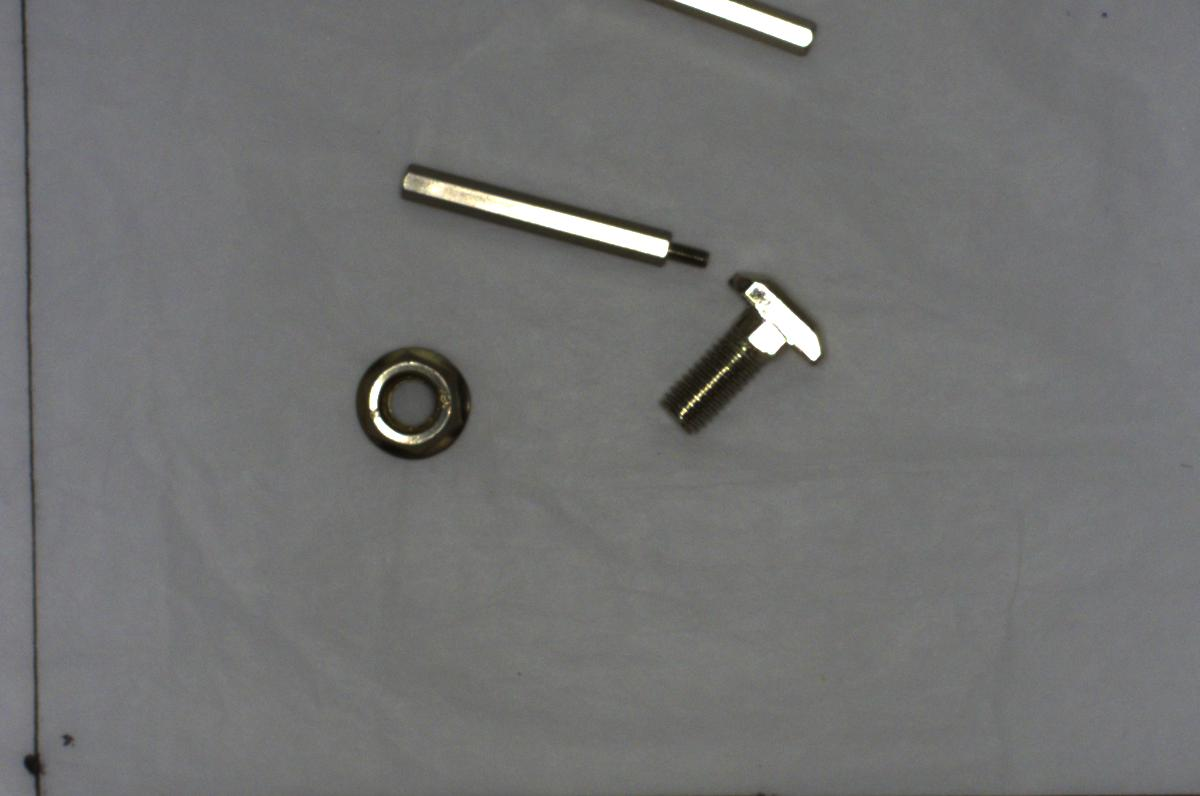Double hexagonal column: (679, 2, 828, 61)
Flange nut: (348, 340, 474, 466)
Hexagonal steel column: (391, 155, 717, 270)
T-shaped screw: (647, 270, 839, 440)
